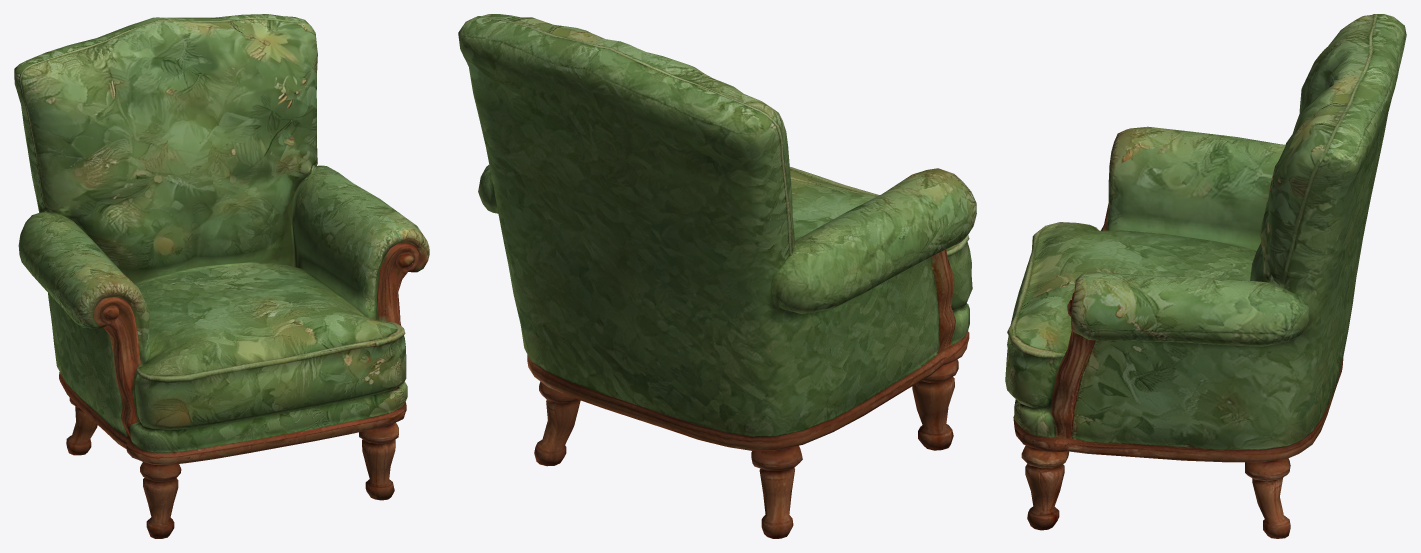
File: armchair.glb
The picture shows the model from 3 angles, left to right: view 1: azimuth 30°, elevation 25°; view 2: azimuth 150°, elevation 25°; view 3: azimuth 270°, elevation 25°; orthographic projection. The views are drawn at different scales.
Parts seen in each view (by area): view 1: tripo_node_4e1117b0-d8ee-4a83-8625-3ca75b290dae; view 2: tripo_node_4e1117b0-d8ee-4a83-8625-3ca75b290dae; view 3: tripo_node_4e1117b0-d8ee-4a83-8625-3ca75b290dae.
Boxes of the visible parts, x1=… form: tripo_node_4e1117b0-d8ee-4a83-8625-3ca75b290dae: x1=14, y1=14, x2=429, y2=538; tripo_node_4e1117b0-d8ee-4a83-8625-3ca75b290dae: x1=458, y1=14, x2=976, y2=538; tripo_node_4e1117b0-d8ee-4a83-8625-3ca75b290dae: x1=1005, y1=14, x2=1406, y2=538.
Size of the model in its own units: 0.8899 by 0.978 by 0.8401.
1 material, 1 textured.
